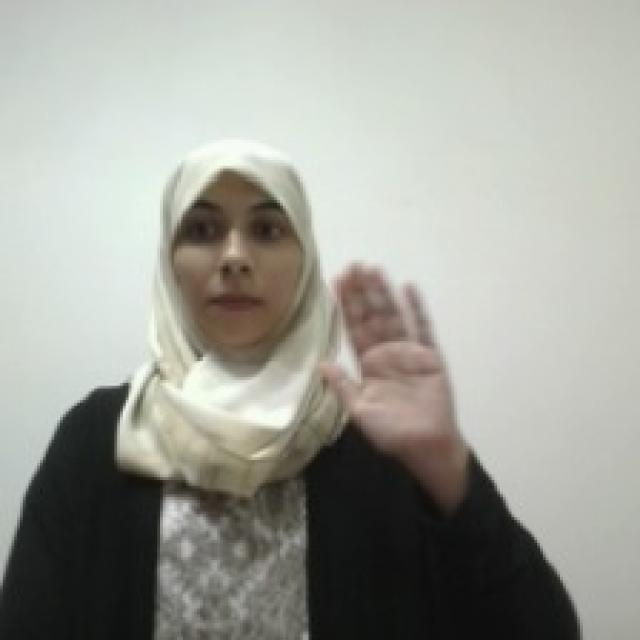Hello: (314, 254, 457, 451)
